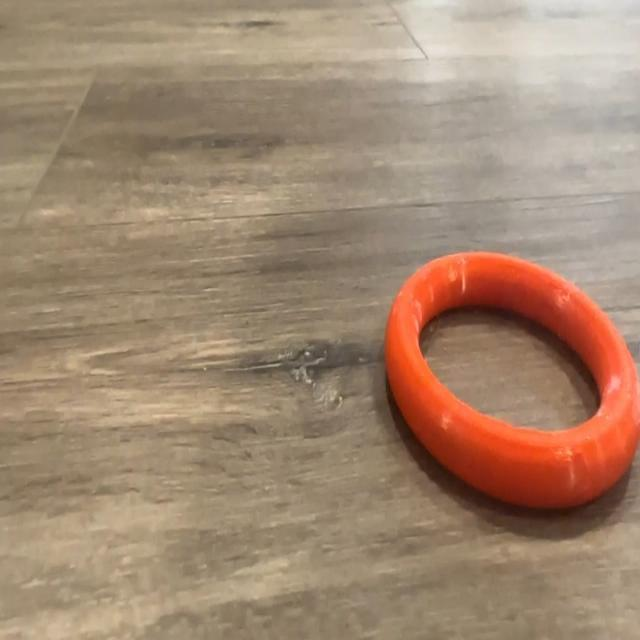note: (386, 250, 640, 510)
